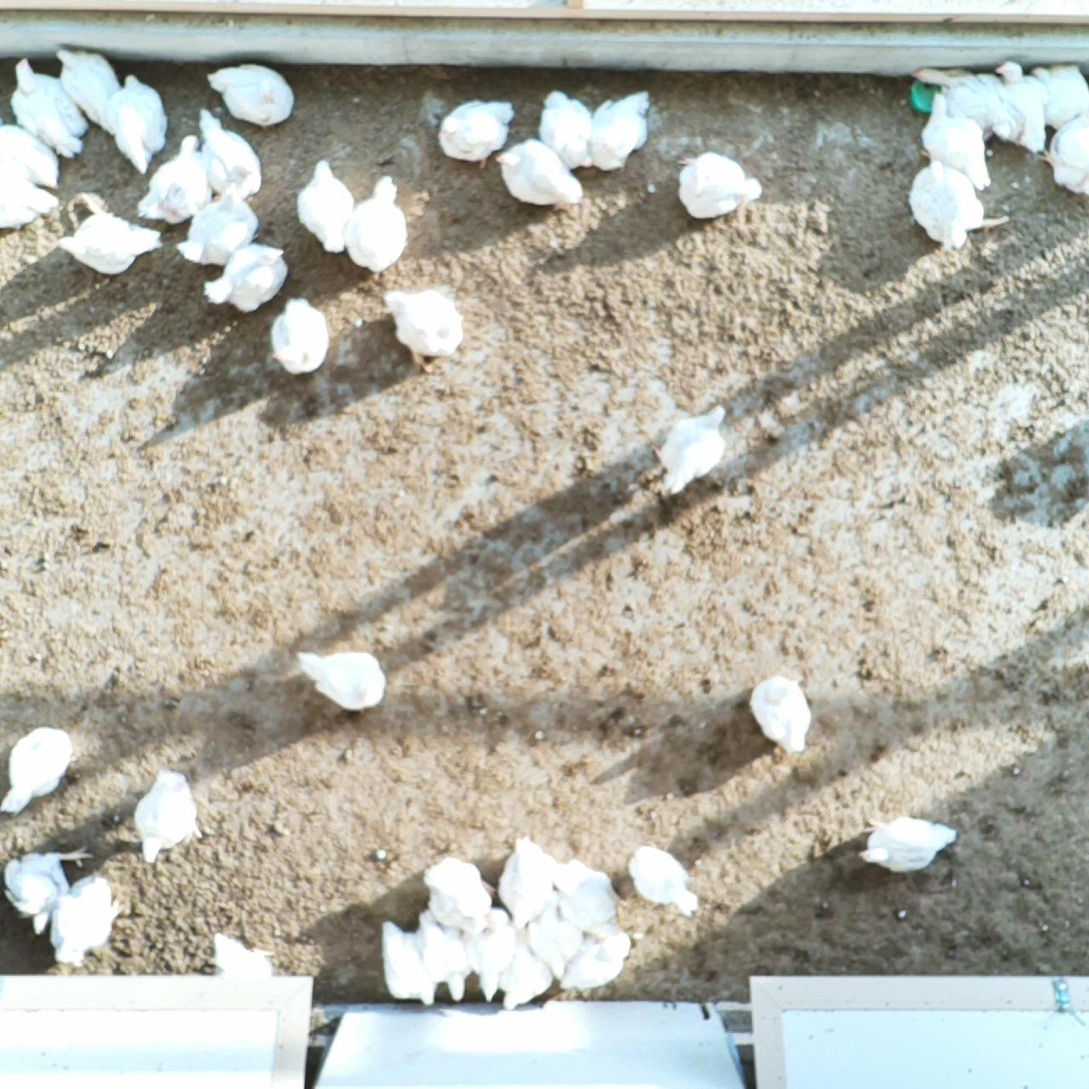chicken: (909, 64, 1034, 149), (57, 192, 165, 280), (0, 842, 95, 939), (8, 56, 91, 160), (915, 90, 995, 192), (173, 180, 264, 269), (48, 871, 127, 971), (422, 851, 513, 937), (907, 158, 986, 256), (381, 284, 466, 375), (0, 721, 78, 820), (650, 402, 728, 500), (340, 174, 413, 278), (854, 811, 959, 883), (493, 137, 586, 215), (548, 855, 631, 942), (103, 70, 171, 176), (132, 765, 203, 865), (136, 134, 212, 225), (294, 647, 389, 719), (198, 106, 267, 202), (51, 43, 121, 137), (206, 60, 298, 131), (414, 901, 475, 1006), (436, 94, 518, 172), (204, 243, 290, 316), (626, 842, 704, 922), (675, 151, 765, 220), (745, 671, 815, 757), (295, 155, 354, 256), (497, 835, 559, 931), (993, 59, 1053, 157), (587, 89, 656, 172), (525, 885, 584, 982), (265, 294, 332, 377), (378, 919, 437, 1010), (463, 906, 517, 1005), (555, 925, 634, 991), (538, 86, 597, 172), (495, 928, 555, 1011), (1037, 105, 1089, 198), (0, 117, 63, 187), (1030, 60, 1089, 133), (0, 168, 61, 236), (205, 928, 280, 979)
